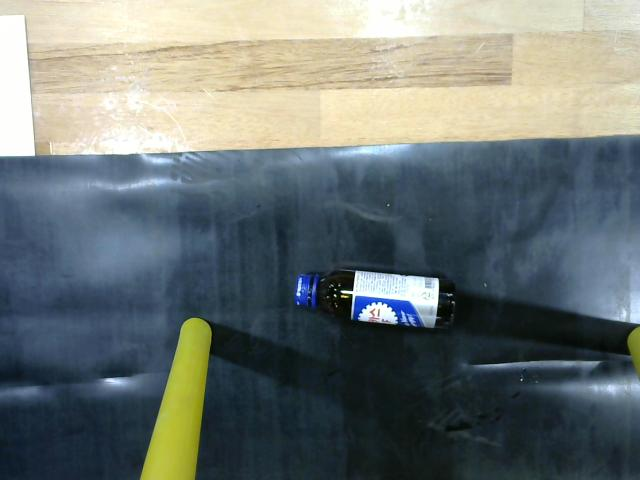glass: (294, 261, 464, 339)
